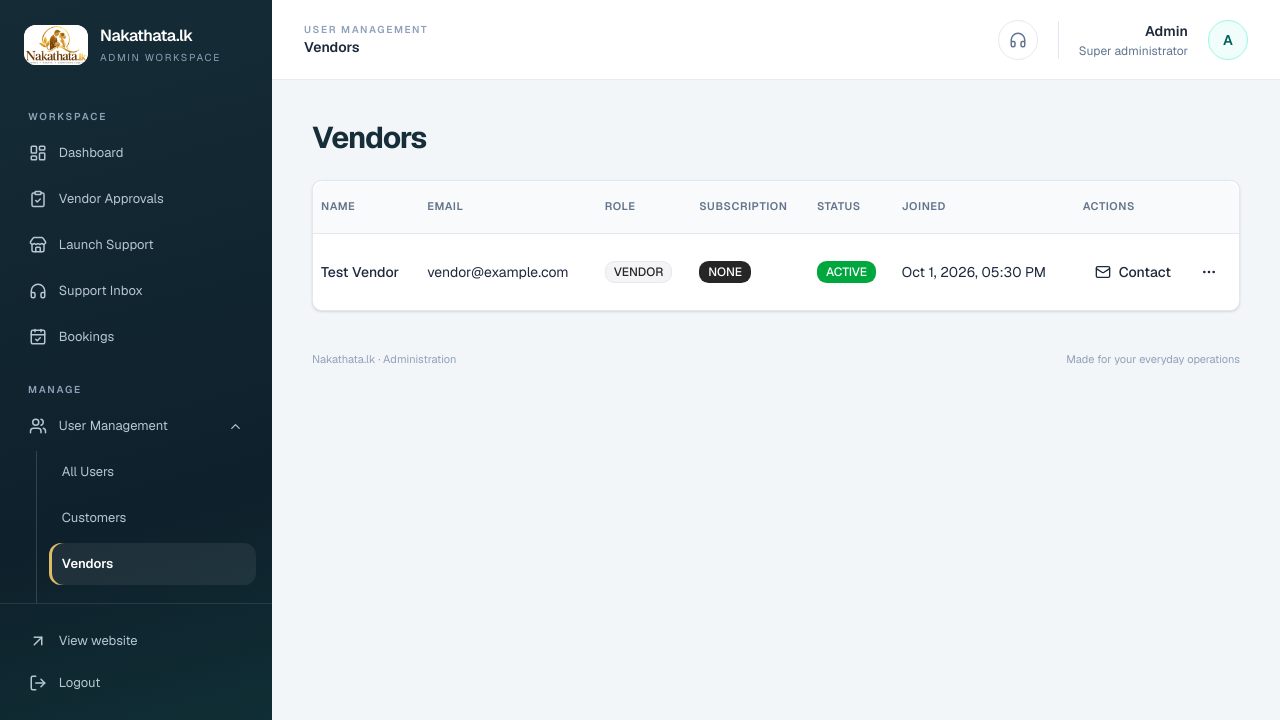
Scenario: Vendor action menu › lets Super Admins suspend and reactivate vendors
expect the text "vendor@example.com" is shown: met, box [419,233,597,310]
Click the button named "More actions for Test Vendor" at (1209, 272), box [1187,250,1231,294]
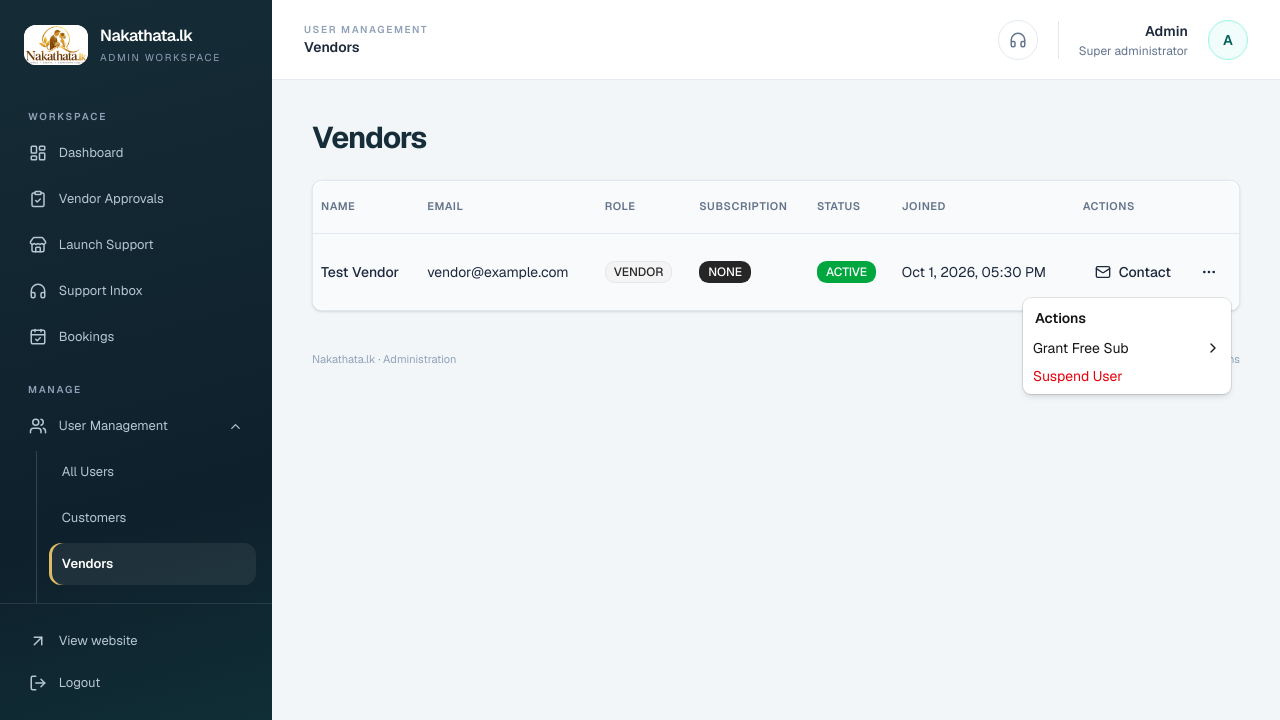
Click the menu item "Suspend User" at (1078, 376), box [1033,367,1122,385]
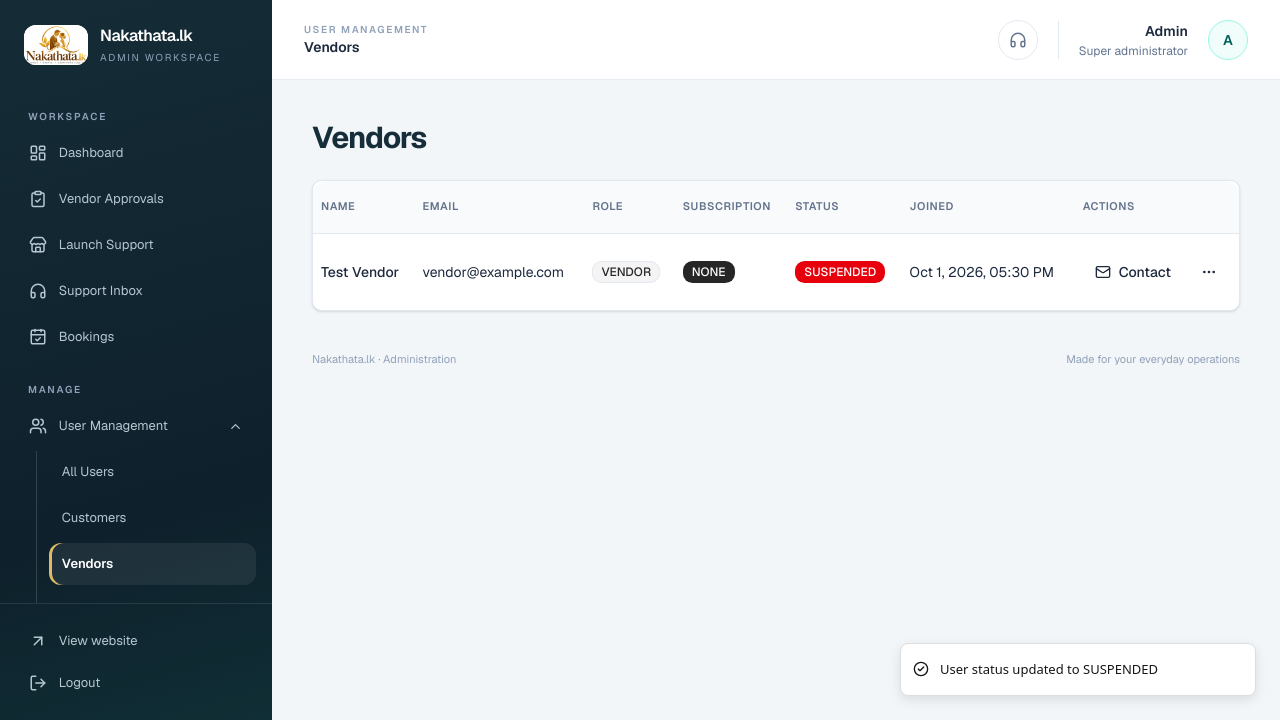
expect the text "SUSPENDED" is shown: met, box [787,233,902,310]
Click the button named "More actions for Test Vendor" at (1209, 272), box [1187,250,1231,294]
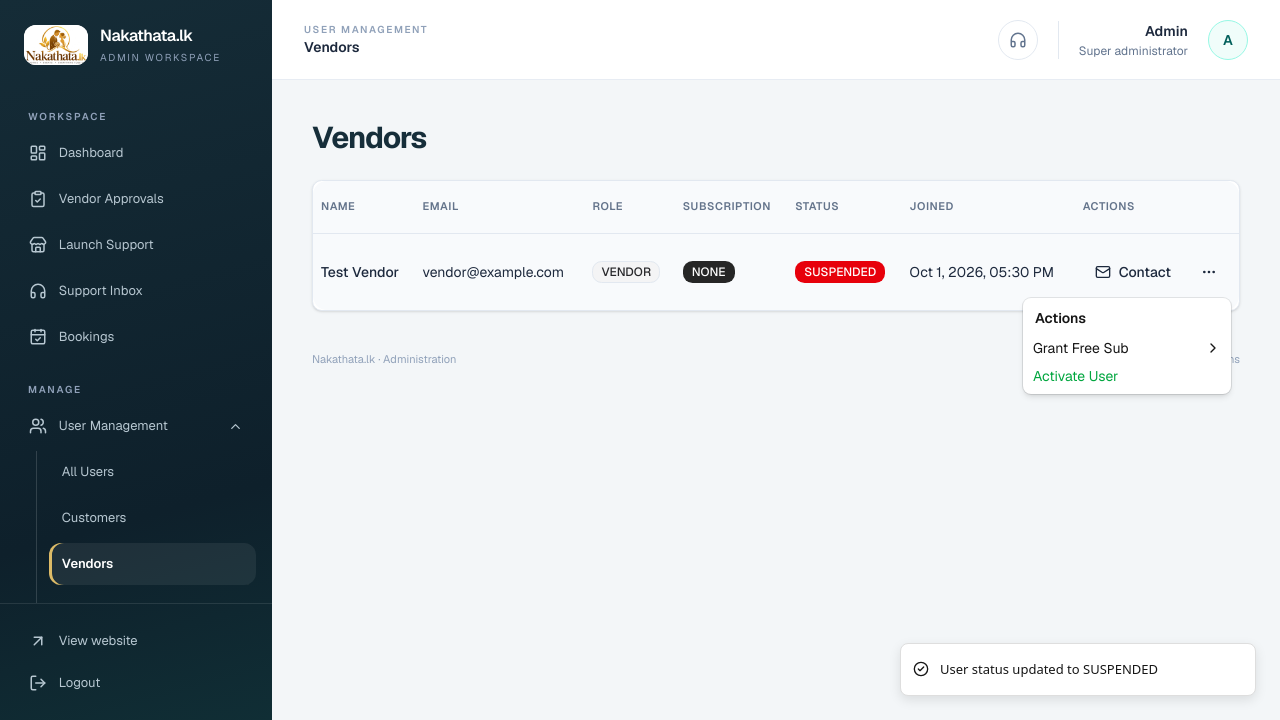
Click the menu item "Activate User" at (1076, 376), box [1033,367,1118,385]
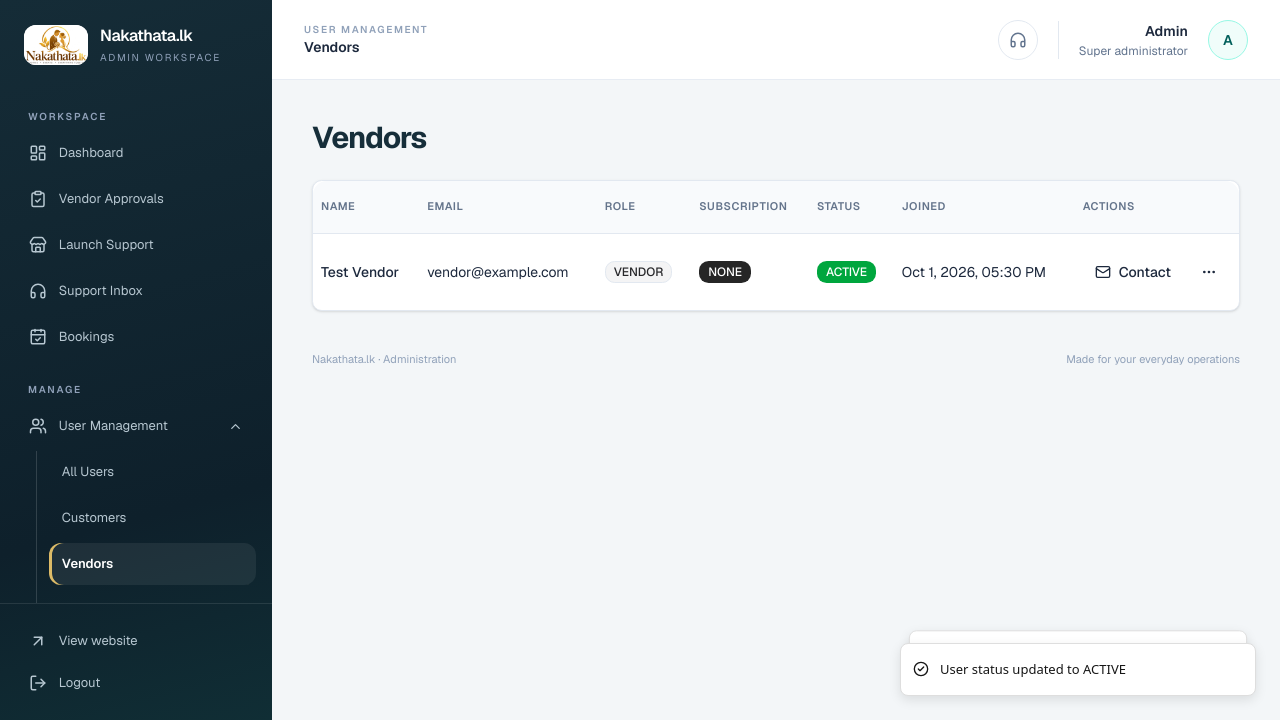
expect the text "ACTIVE" is shown: met, box [809,233,894,310]
